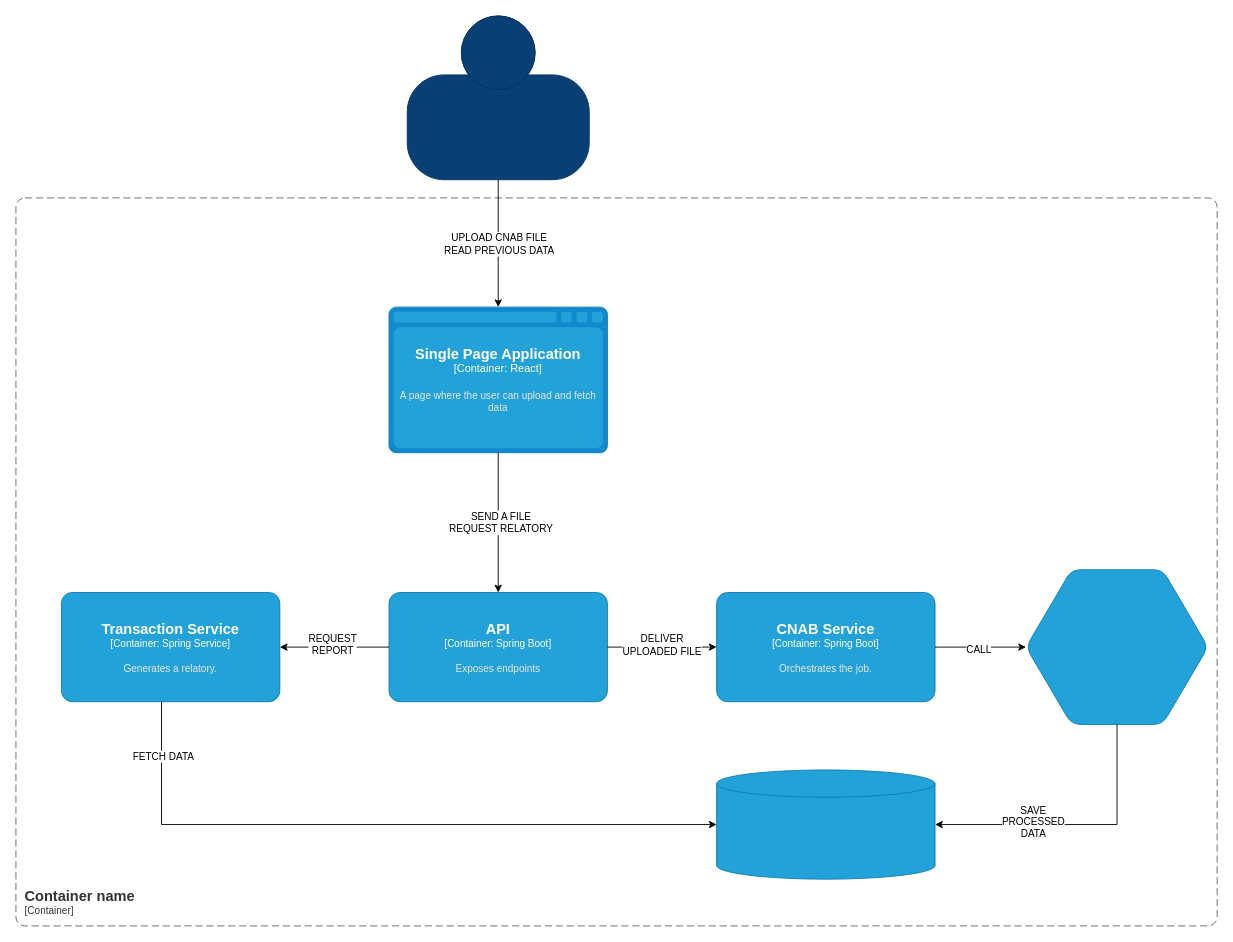
Image size: 1233x942. Some labels were removed from this diagram. The shapes that lost their labels are listed below. From the top down, each one's centre as x and y in pixels, then its label:
At pixel 497 97: "User [Person] The commom user.".
At pixel 1116 646: "CNAB Process Job [Container: Spring Batch Job] Process the CNAB File".
At pixel 825 824: "DATABASE [Container: PostgreSQL] Store the transactions".
